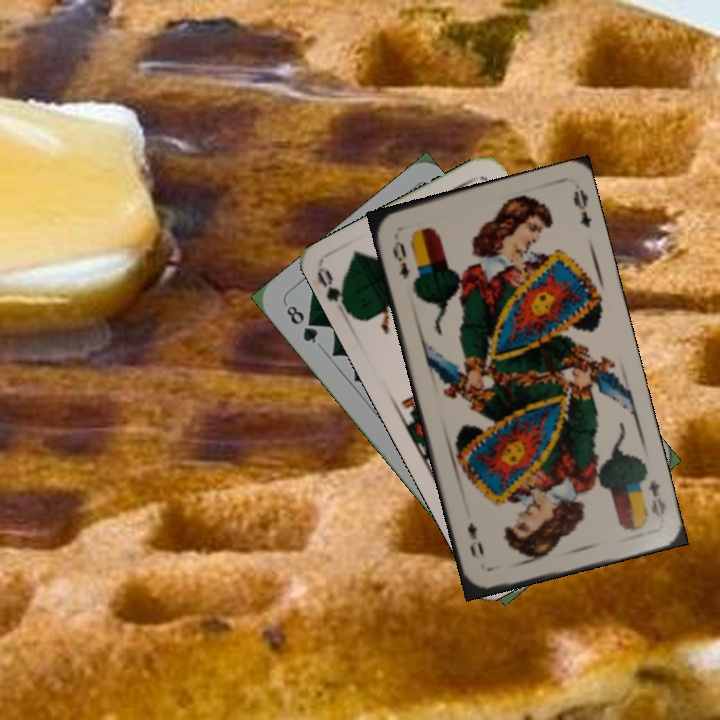EO: (388, 231, 413, 282), (644, 475, 669, 521)
G8: (282, 301, 321, 346)
GO: (313, 265, 355, 318)
